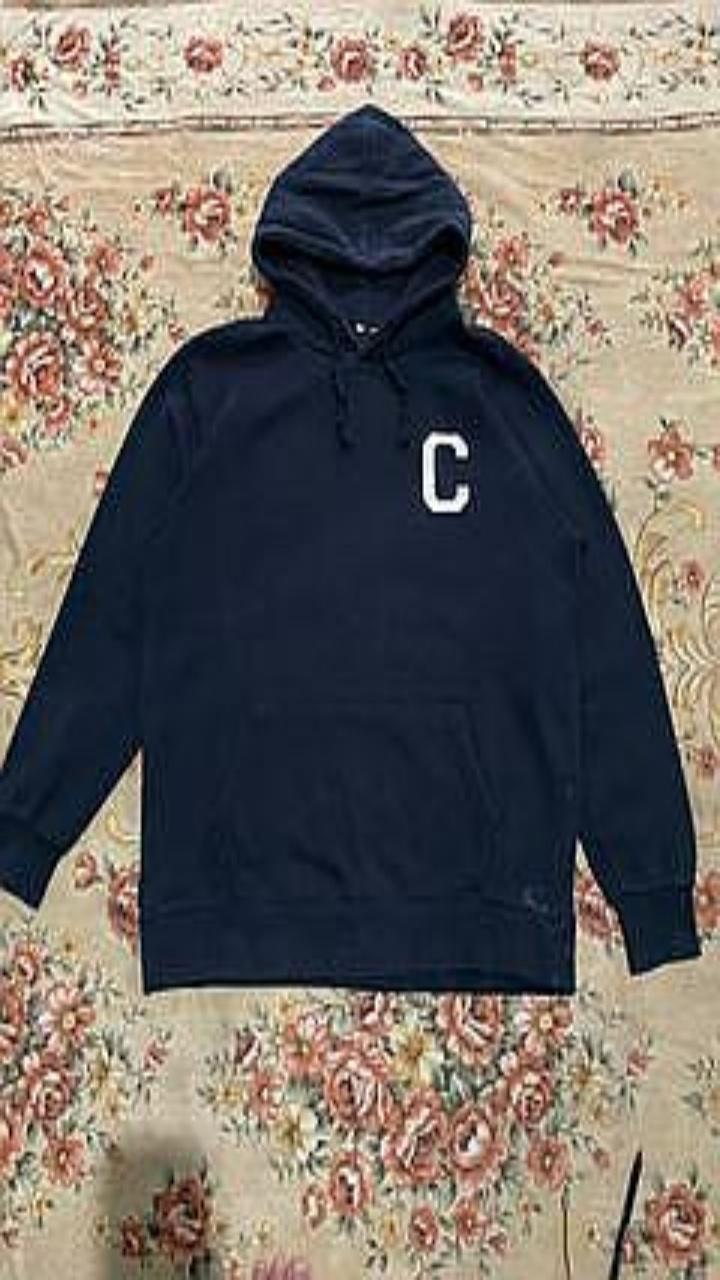Hoodie: (0, 104, 698, 992)
